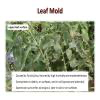Tomato mold leaf: (19, 45, 31, 71), (7, 30, 20, 53), (71, 41, 87, 58), (60, 22, 68, 47), (77, 55, 88, 69), (42, 38, 56, 49), (15, 36, 22, 57), (69, 57, 80, 68), (32, 51, 41, 63), (65, 48, 72, 61), (54, 41, 61, 54), (28, 57, 34, 71), (35, 33, 42, 40), (31, 45, 39, 50), (25, 34, 32, 39), (38, 39, 41, 48)
